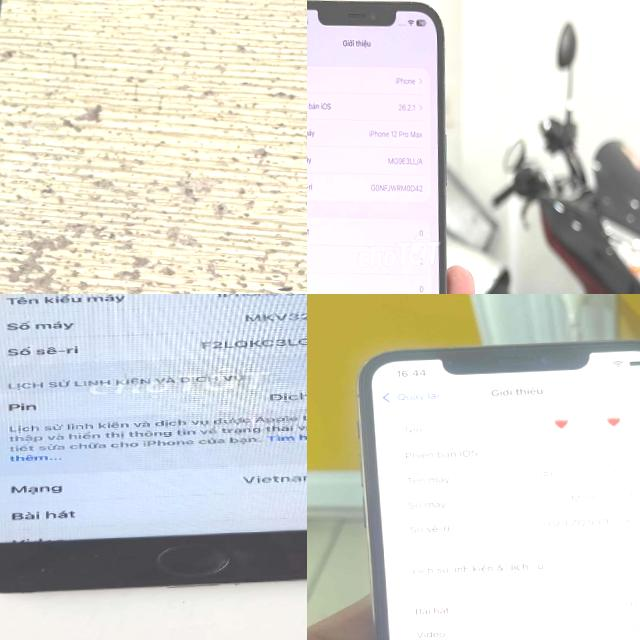gen_11: (339, 329, 640, 640)
gen_12_13: (307, 0, 454, 294), (0, 0, 63, 294)
gen_6: (0, 294, 307, 603)
